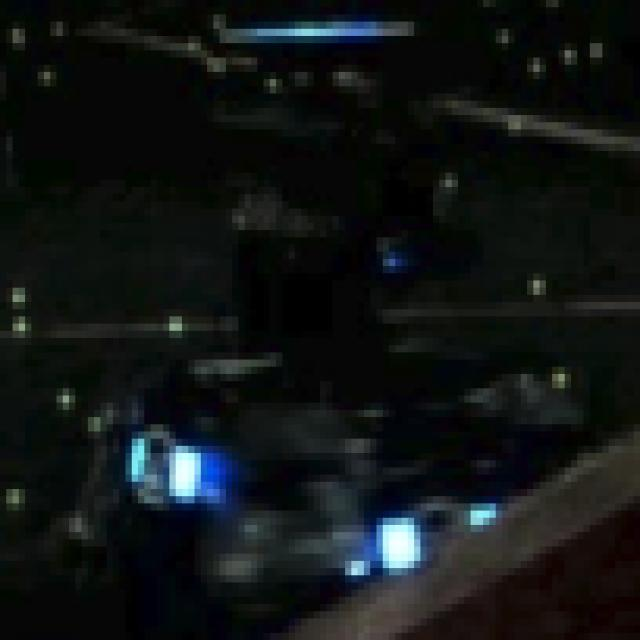Bs: (119, 424, 207, 518)
